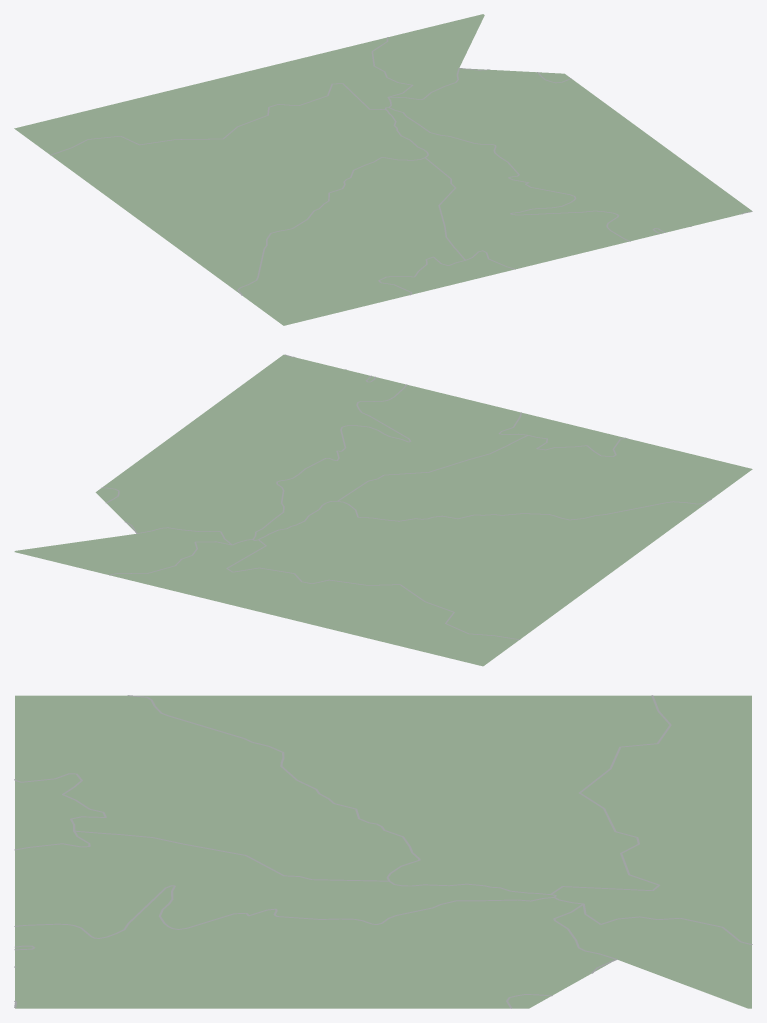
Rendered from -17_17-known-coarse.glb.
3 renders of one model, top to bottom at view 1: azimuth 30°, elevation 25°; view 2: azimuth 150°, elevation 25°; view 3: azimuth 270°, elevation 25°, orthographic. The views are drawn at different scales.
Bounding box in the file's own units: 1002 × 0.1 × 998.
